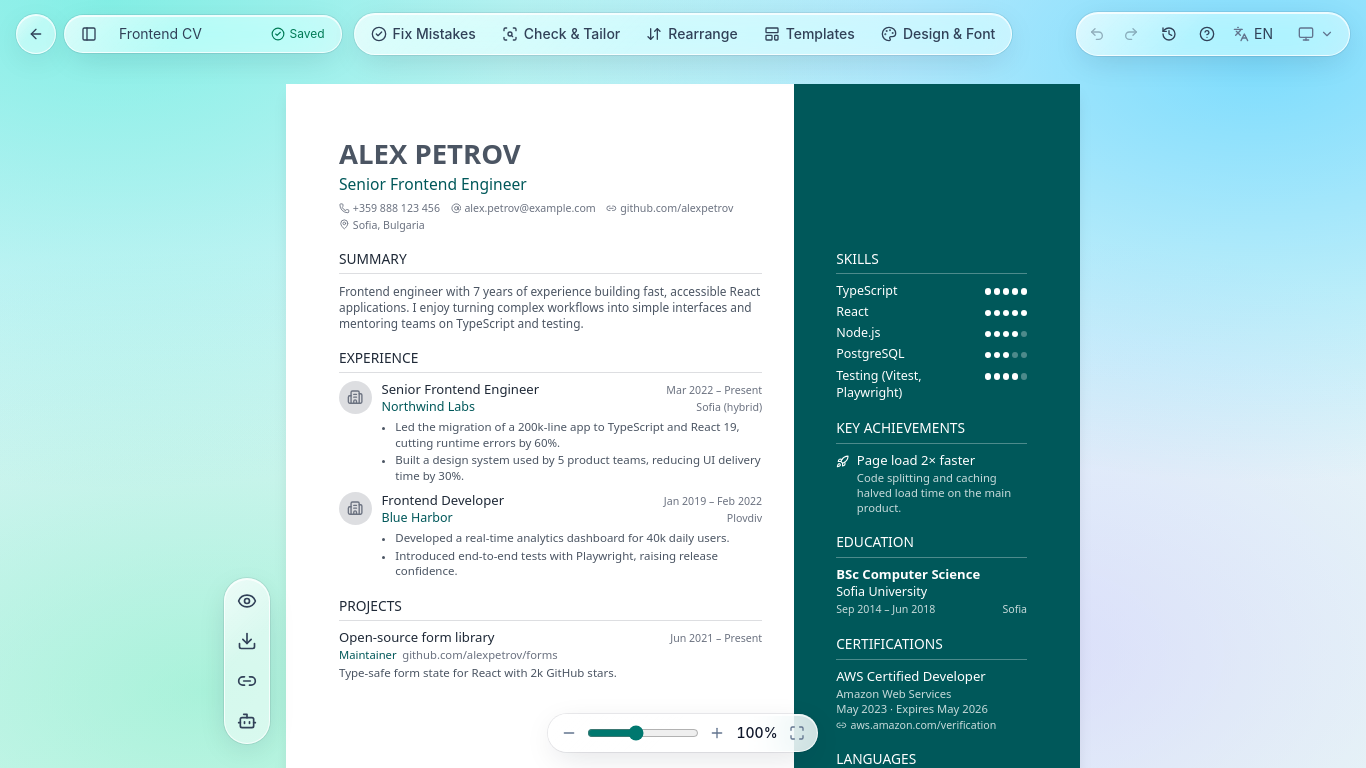
Test: Fix Mistakes › says when there is nothing to fix
expect the field showing "Frontend CV" is shown: met, box x1=113 y1=22 x2=264 y2=46
Click the button "Fix Mistakes": (423, 34) x1=359 y1=18 x2=488 y2=50
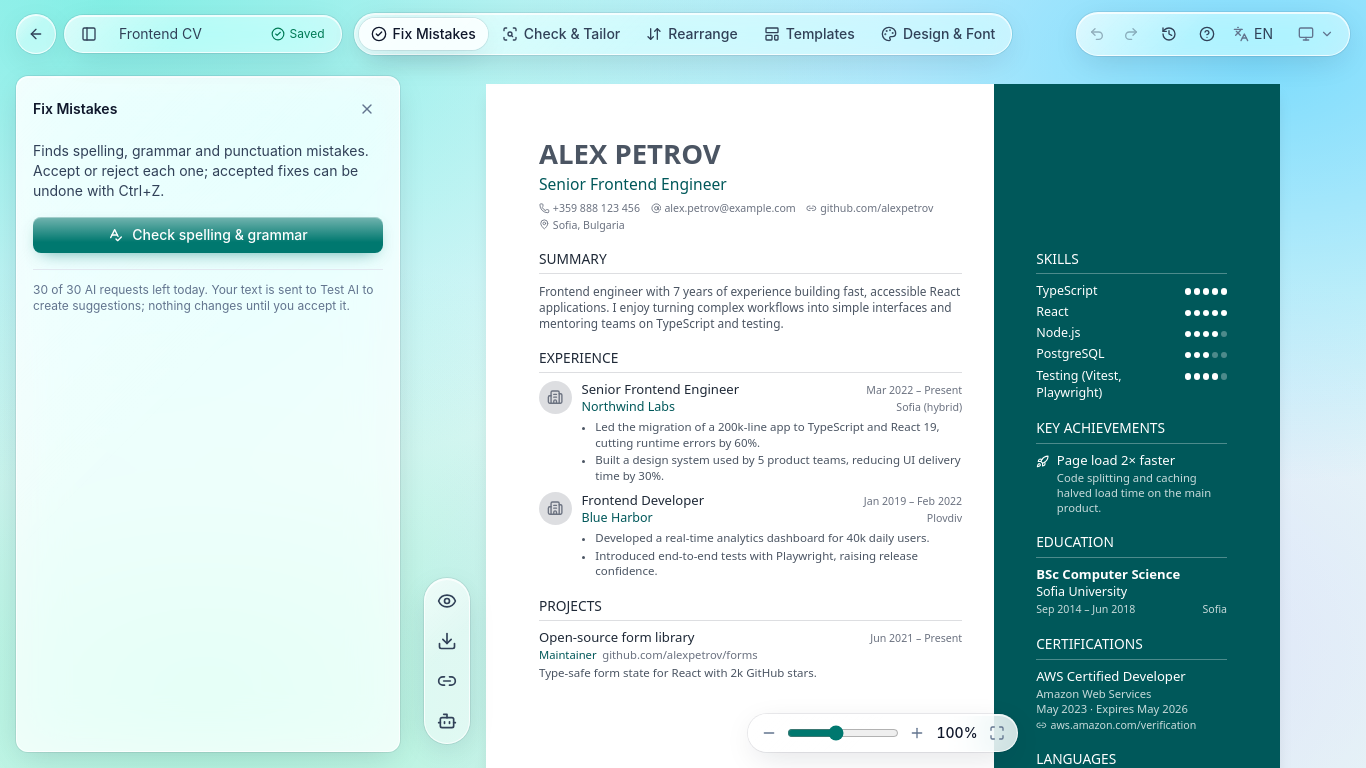
Click the button "Check spelling & grammar": (208, 235) x1=33 y1=217 x2=383 y2=253
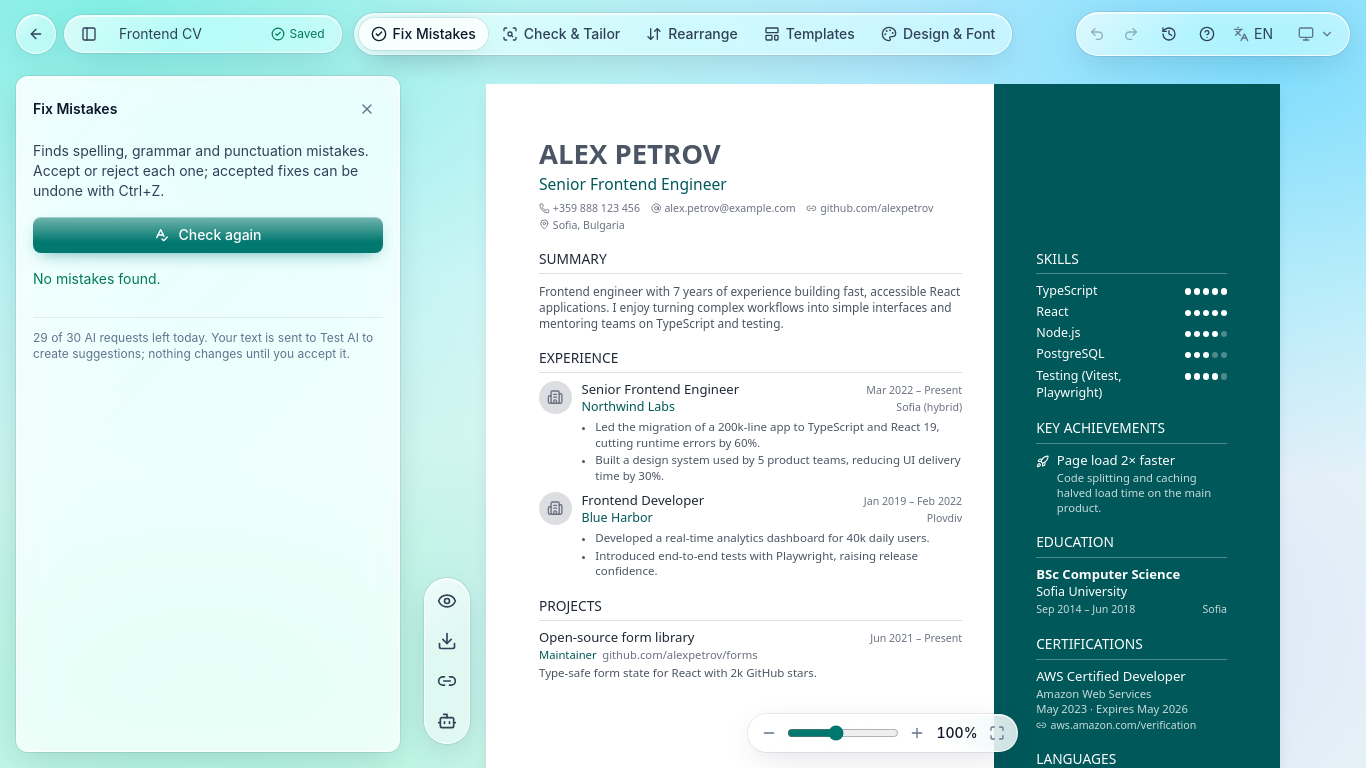
expect the text "No mistakes found." is shown: met, box x1=33 y1=270 x2=161 y2=287
expect the text "29 of 30 AI requests left today" is shown: met, box x1=33 y1=330 x2=373 y2=361
